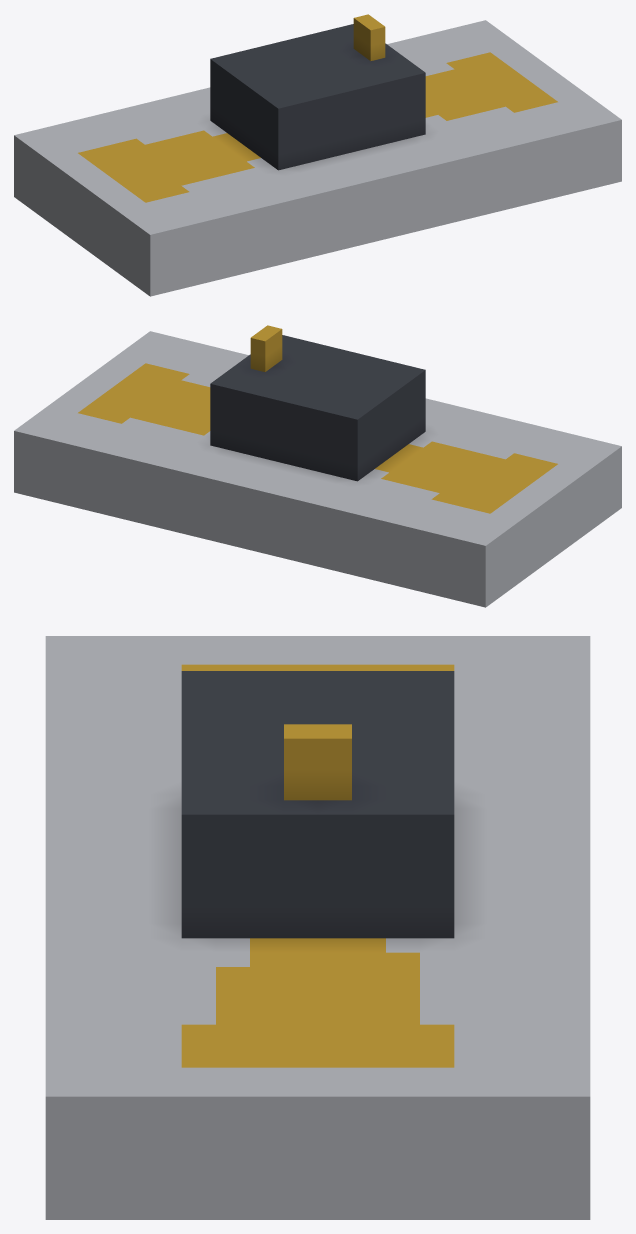
The model's file is inst_gpr.glb.
The picture shows the model from 3 angles, top to bottom: view 1: azimuth 30°, elevation 25°; view 2: azimuth 150°, elevation 25°; view 3: azimuth 270°, elevation 25°; orthographic projection. The views are drawn at different scales.
Visible parts, largest first — view 1: inst_gpr; view 2: inst_gpr; view 3: inst_gpr.
Part boxes in pixels (x1,y1,x2,y2): inst_gpr: (14, 14, 621, 296); inst_gpr: (14, 325, 621, 607); inst_gpr: (45, 636, 590, 1219).
Size of the model in its own units: 0.5 by 0.1562 by 0.25.
